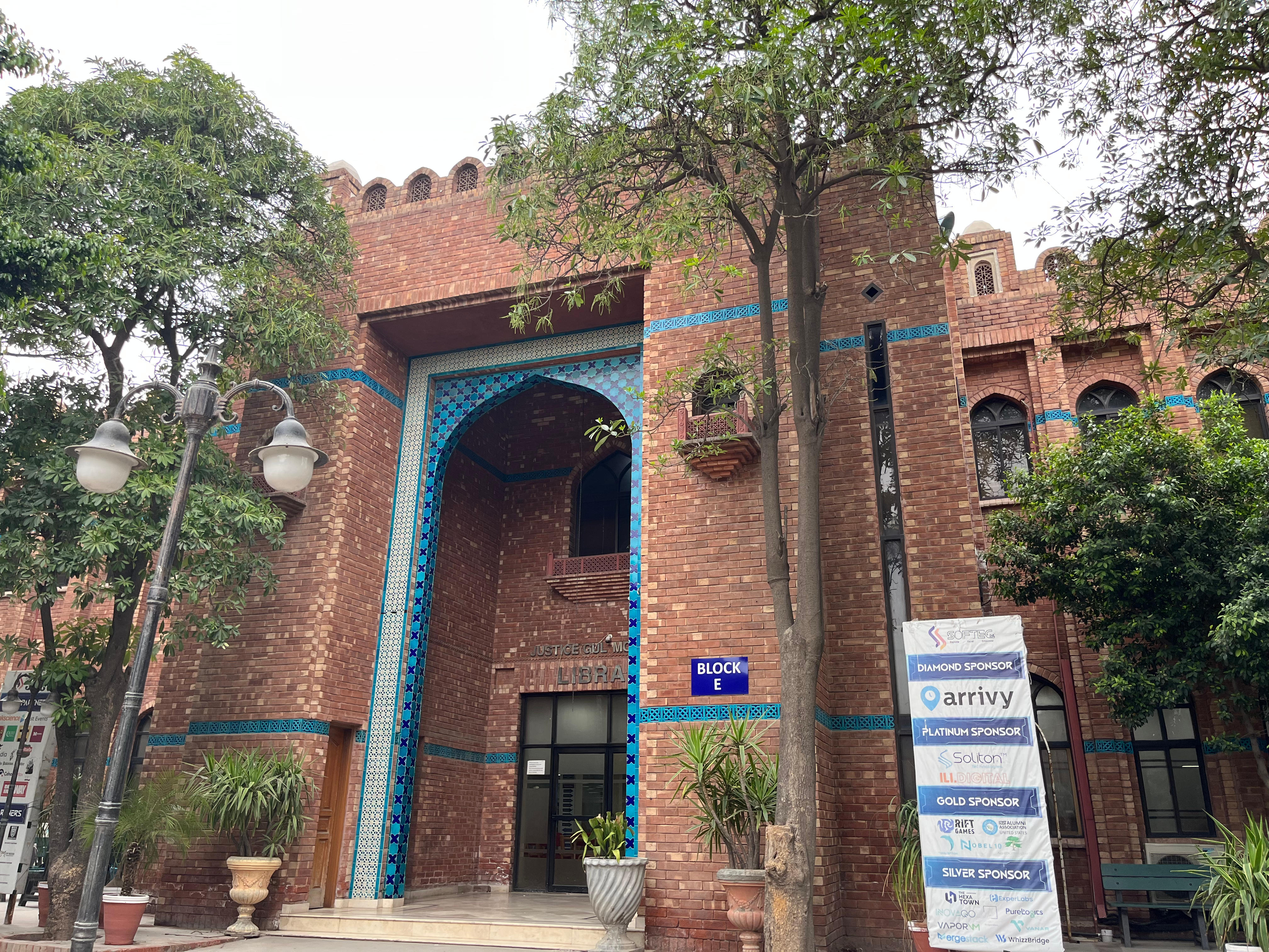Block E: (8, 95, 1266, 952)
